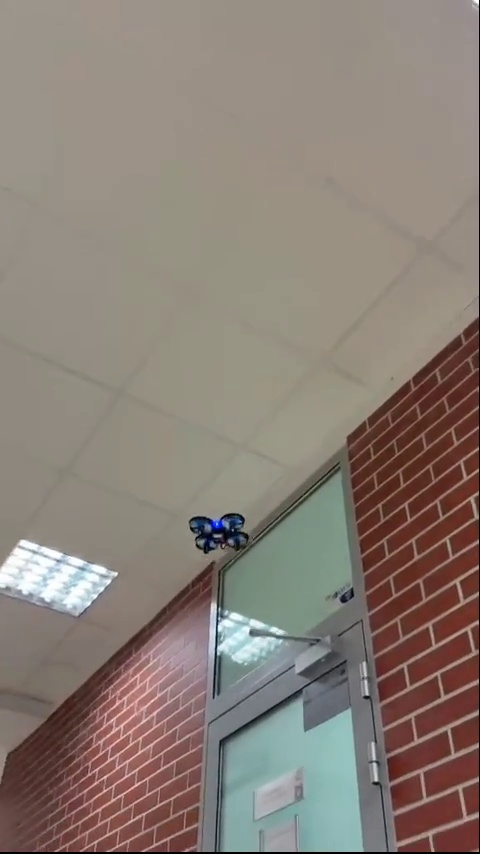drone: (188, 508, 253, 554)
